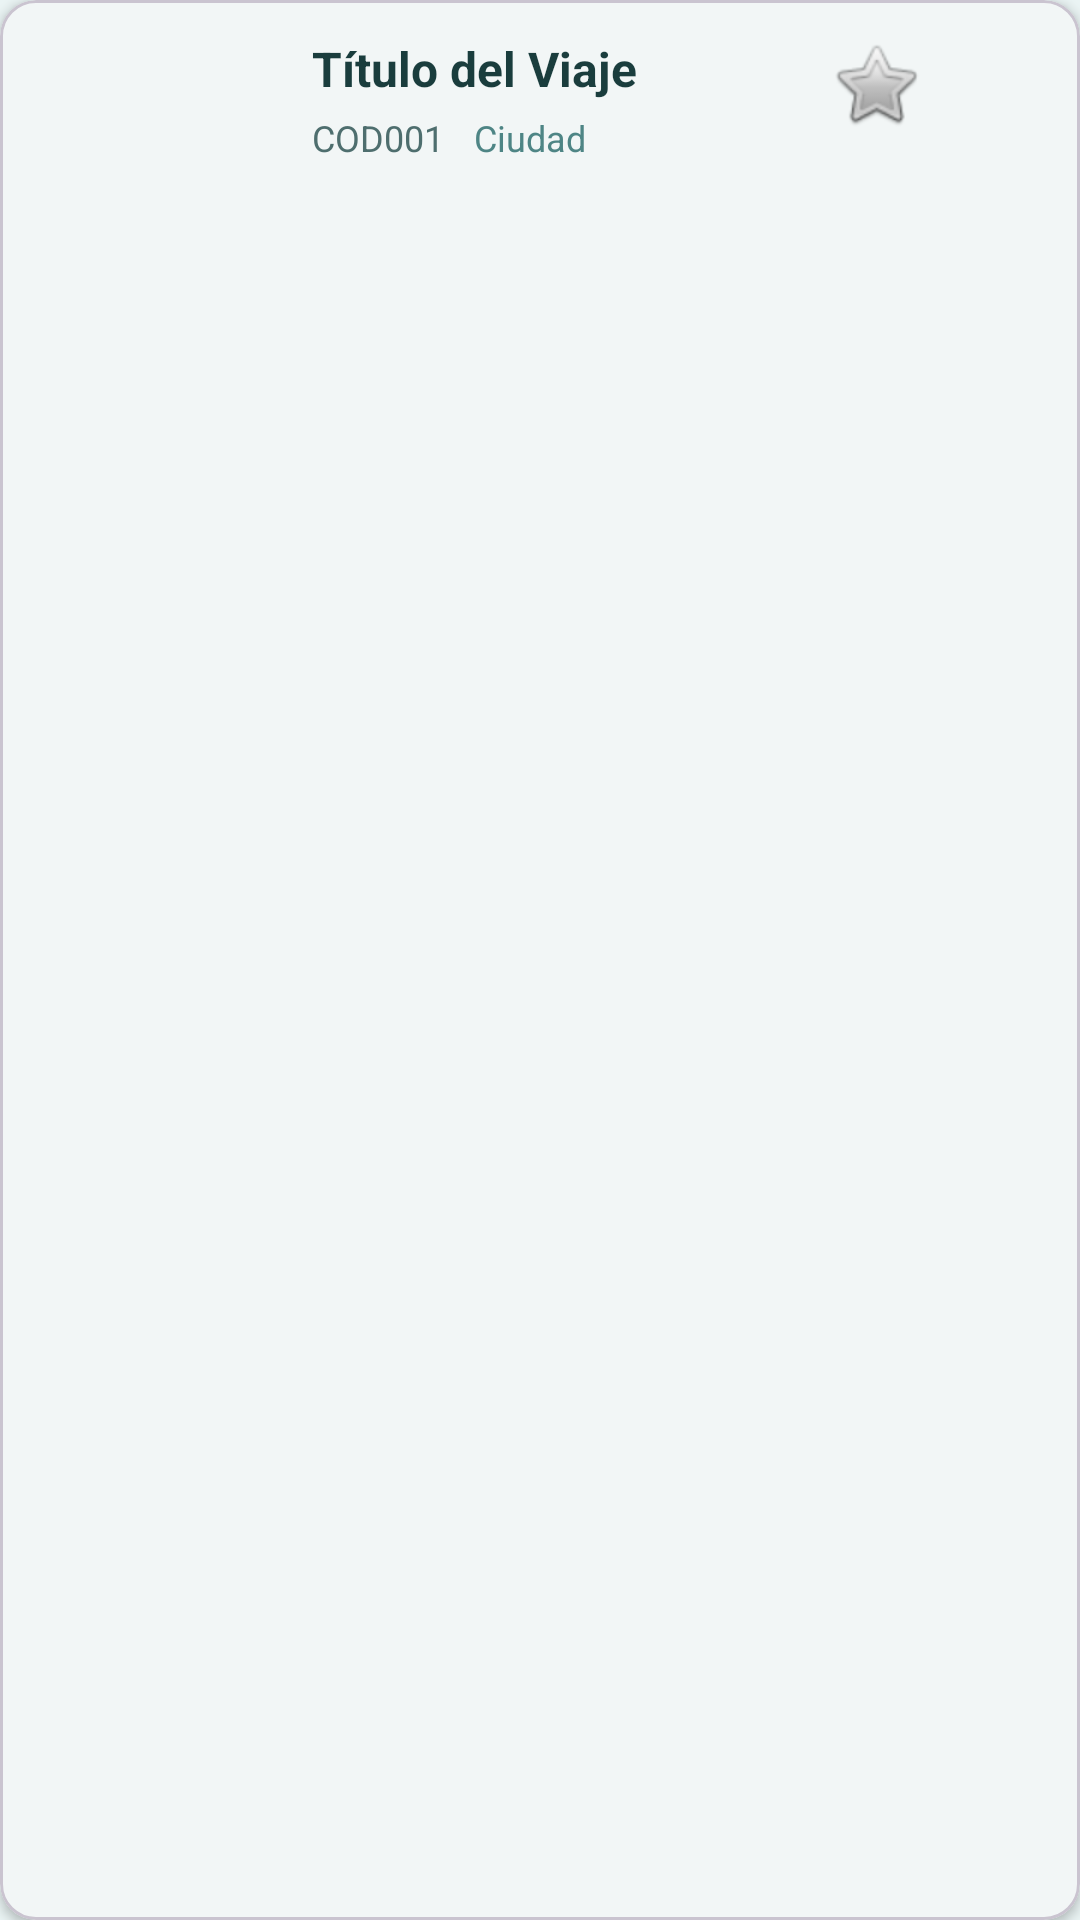

Icon click points for this 1080px×1920px phone screenshot, format (x=x, y=y):
star off: (x=877, y=85)
